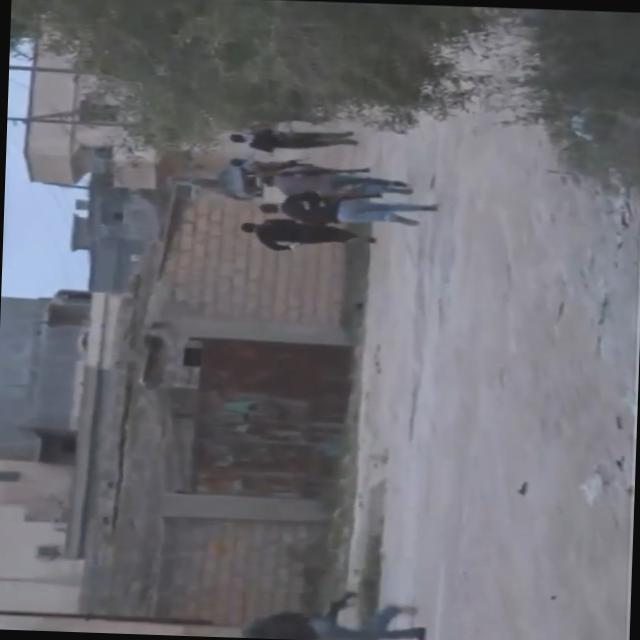long weapon: (254, 160, 366, 183)
